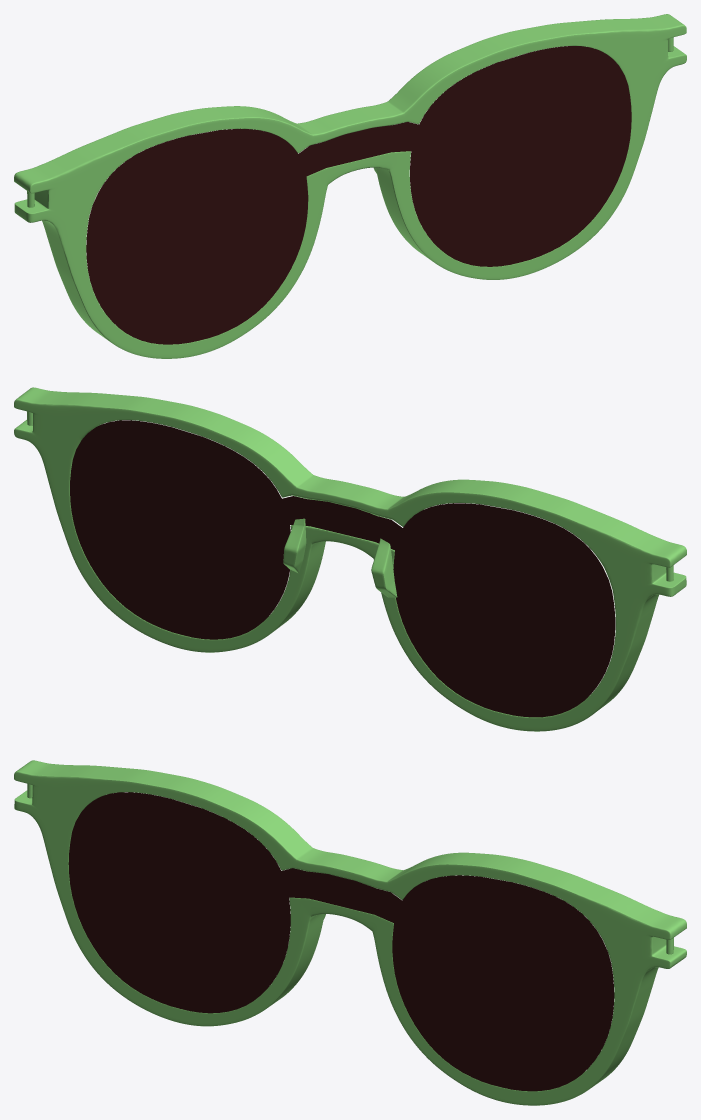
File: prueba.gltf
3 renders of one model, top to bottom at view 1: azimuth 30°, elevation 25°; view 2: azimuth 150°, elevation 25°; view 3: azimuth 330°, elevation 25°, orthographic.
Visible parts, largest first — view 1: montura, montura.2; view 2: montura, montura.2; view 3: montura, montura.2.
Boxes of the visible parts, x1,y1,x2,y2 form: montura: [86, 46, 631, 344]; montura.2: [14, 14, 686, 358]; montura: [70, 420, 615, 717]; montura.2: [14, 387, 686, 731]; montura: [68, 792, 614, 1091]; montura.2: [14, 760, 686, 1105].
Size of the model in its own units: 0.1684 by 0.0566 by 0.0118.
